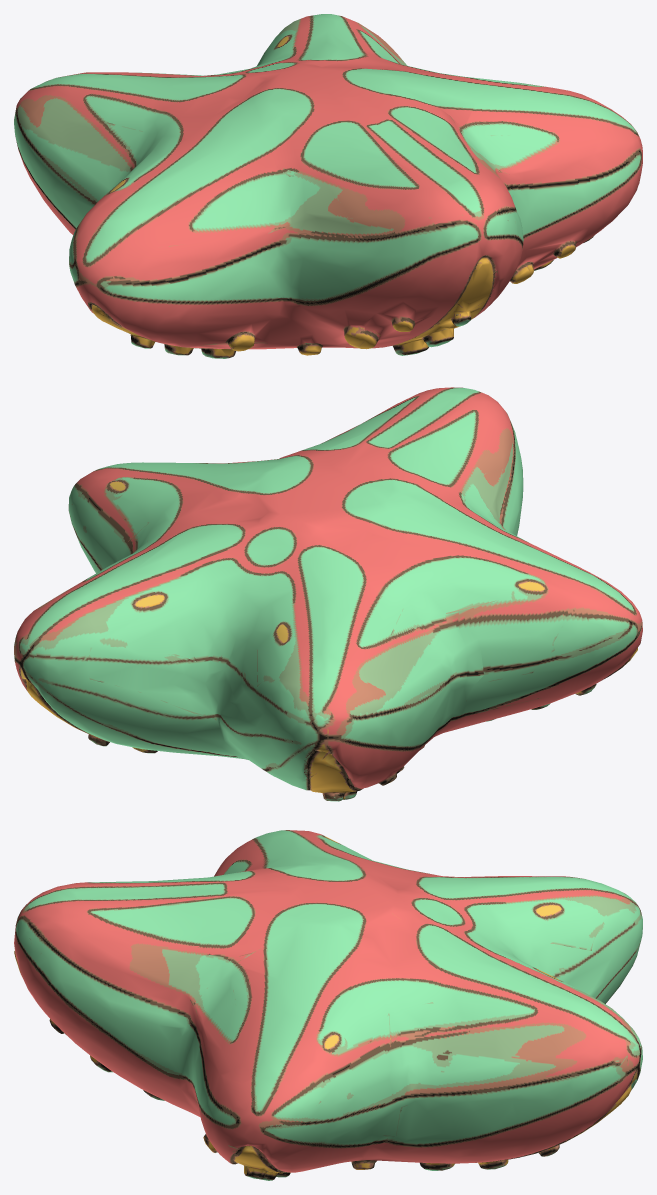
Rendered from starfish.glb.
3 renders of one model, top to bottom at view 1: azimuth 30°, elevation 25°; view 2: azimuth 150°, elevation 25°; view 3: azimuth 270°, elevation 25°, orthographic.
Visible parts, largest first — view 1: Mesh_0; view 2: Mesh_0; view 3: Mesh_0.
Part boxes in pixels (x1,y1,x2,y2): Mesh_0: (14, 14, 642, 358); Mesh_0: (14, 387, 642, 801); Mesh_0: (14, 830, 642, 1180).
Size of the model in its own units: 1.9 by 0.7933 by 1.85.
Materials: 1 (1 with a texture image).
